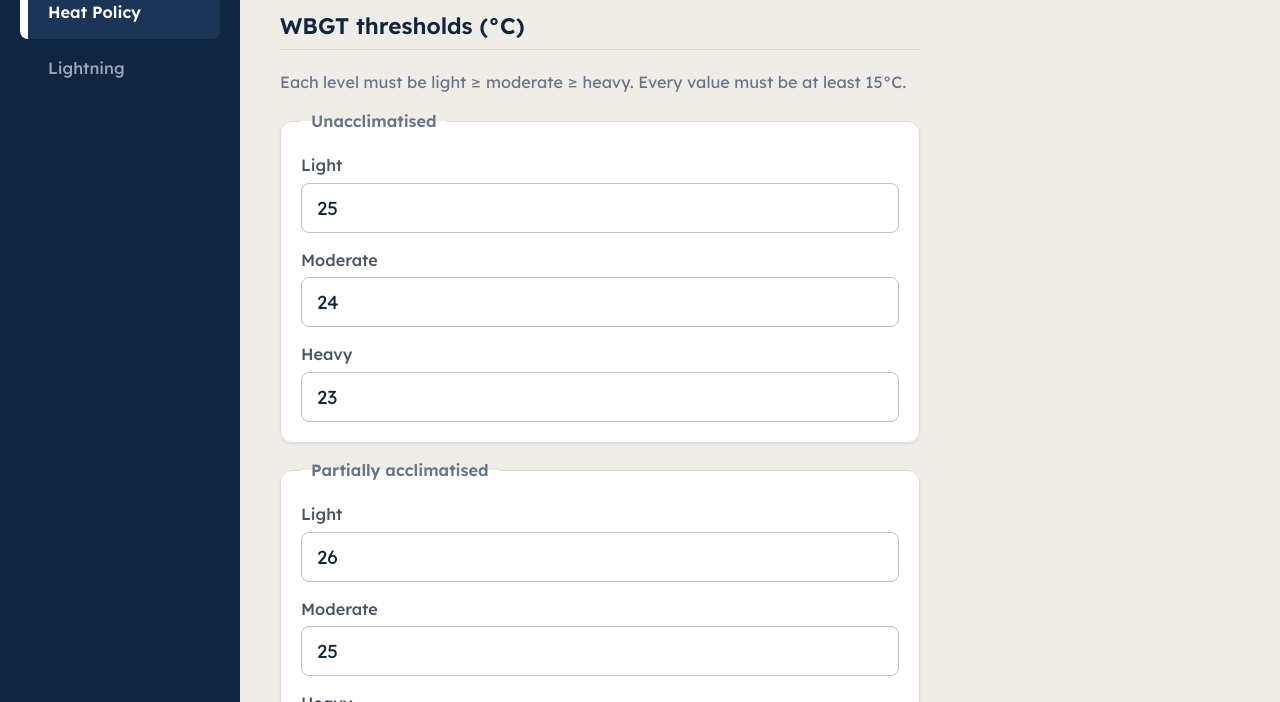
Scenario: CreatePolicyVersionForm › AC — blocks submission when a threshold breaks light ≥ moderate ordering
(page scrolled)
Replace the text in the number field labelled "Moderate" below "Unacclimatised" with "26" at (600, 302), box x1=301 y1=277 x2=899 y2=327
(page scrolled)
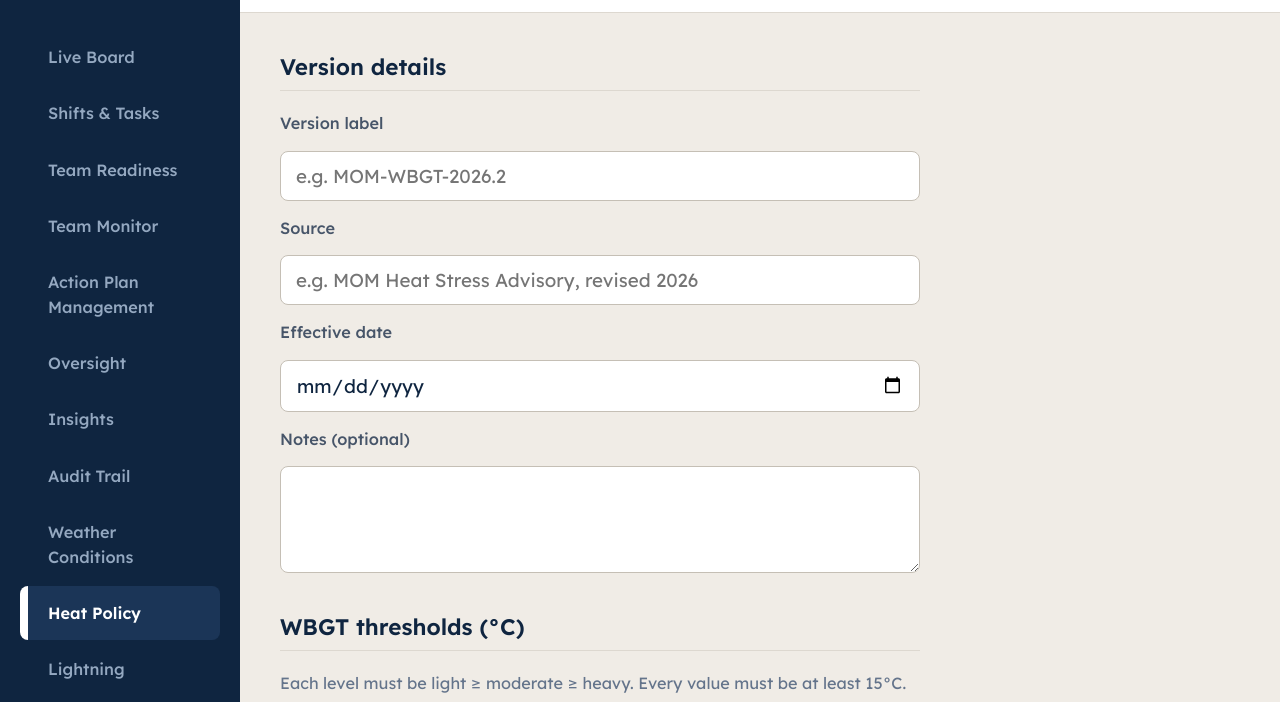
Type "MOM-WBGT-2026.4" into the field labelled "Version label" at (600, 176), box x1=280 y1=151 x2=920 y2=201
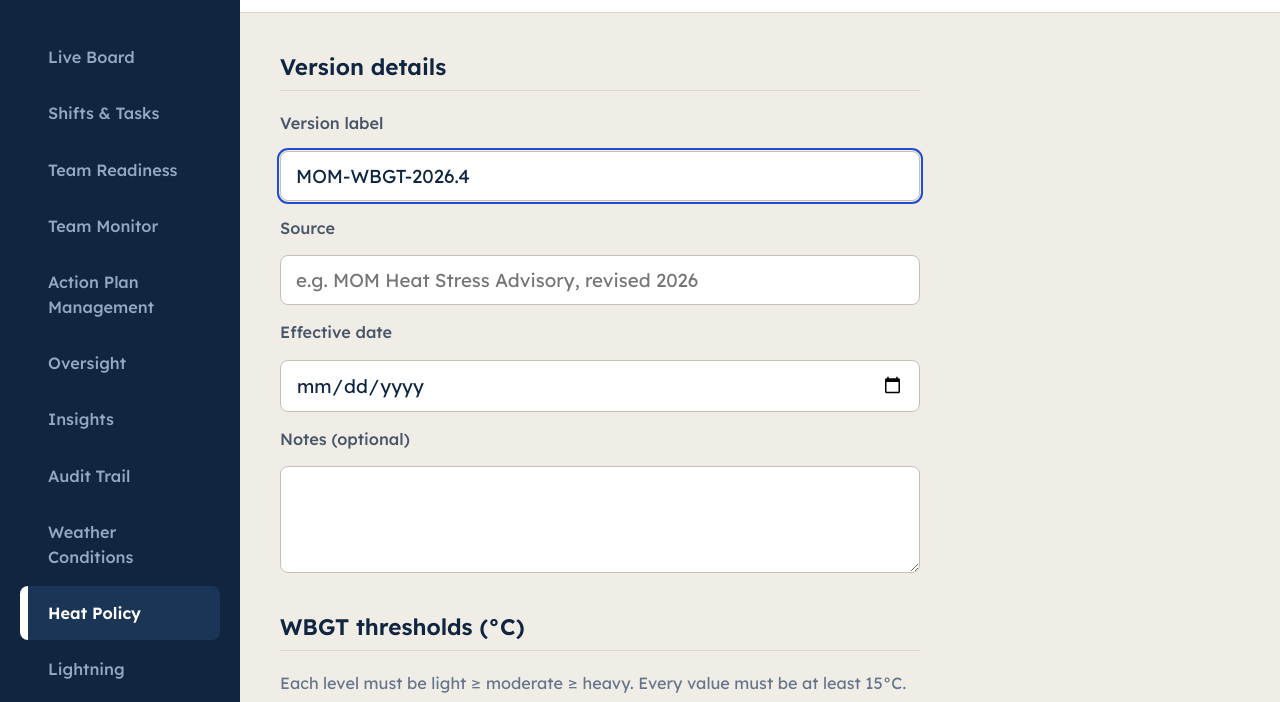
Type "MOM Heat Stress Advisory, revised 2026" into the field labelled "Source" at (600, 280), box x1=280 y1=255 x2=920 y2=305
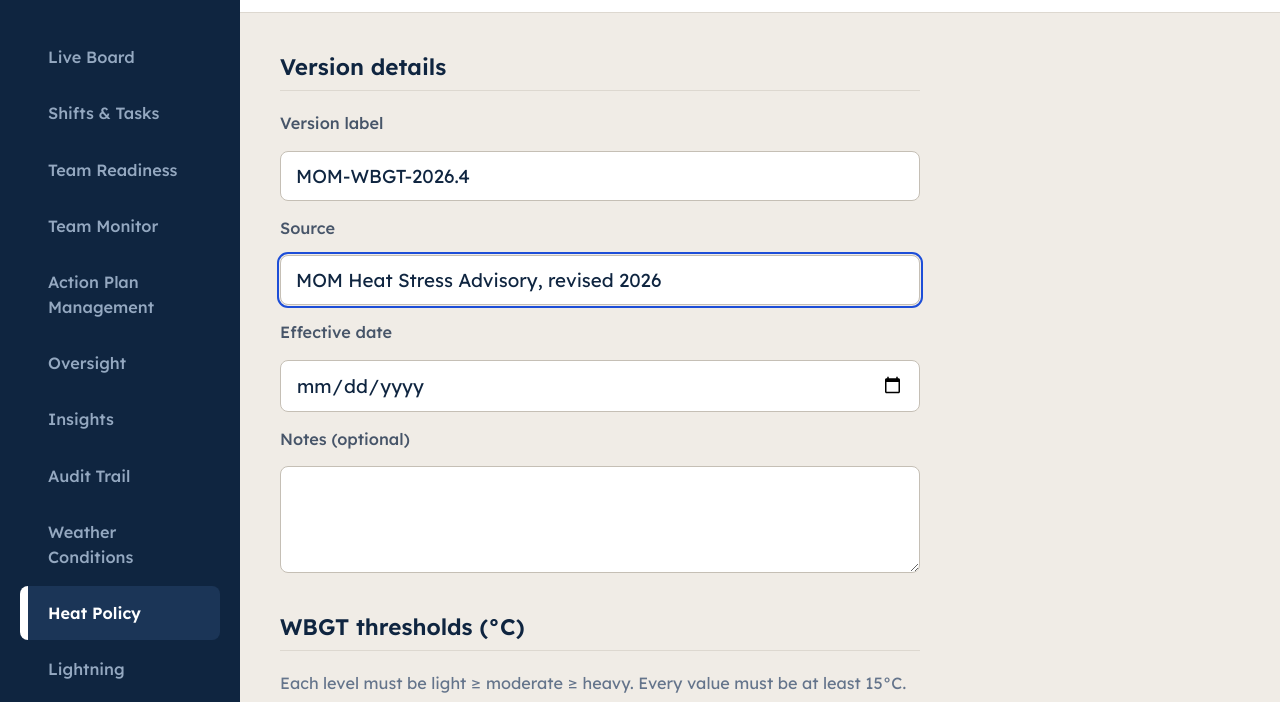
Type "2026-10-01" into the date field labelled "Effective date" at (600, 386), box x1=280 y1=360 x2=920 y2=412
(page scrolled)
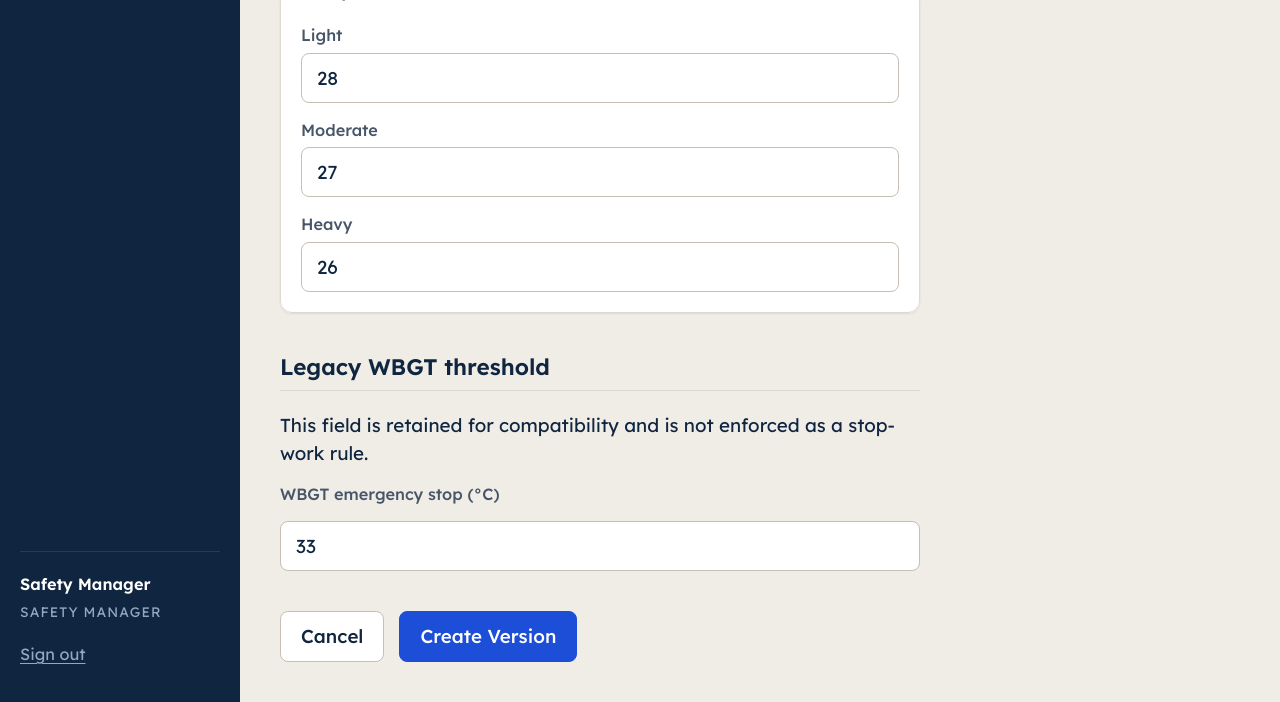
Click the button "Create Version" at (488, 636), box x1=399 y1=611 x2=577 y2=662
(page scrolled)
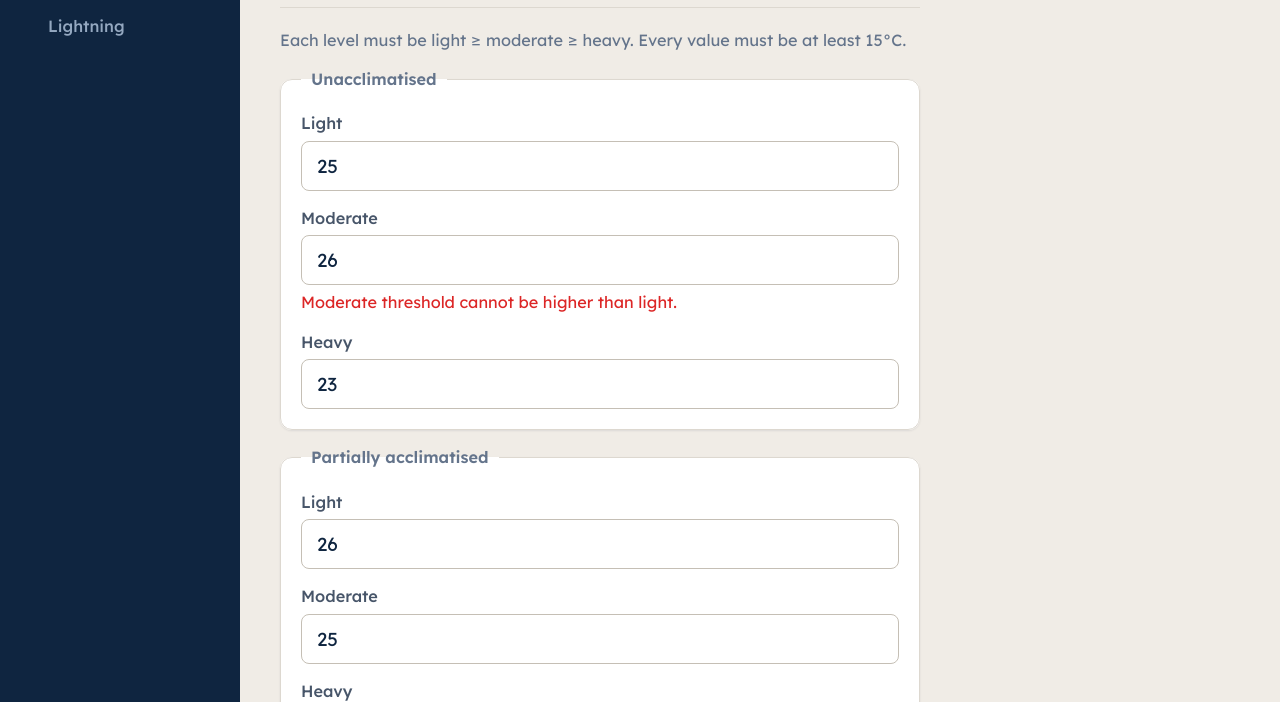
Expected: the text "Moderate threshold cannot be higher than light." is shown, x1=301 y1=292 x2=677 y2=312
